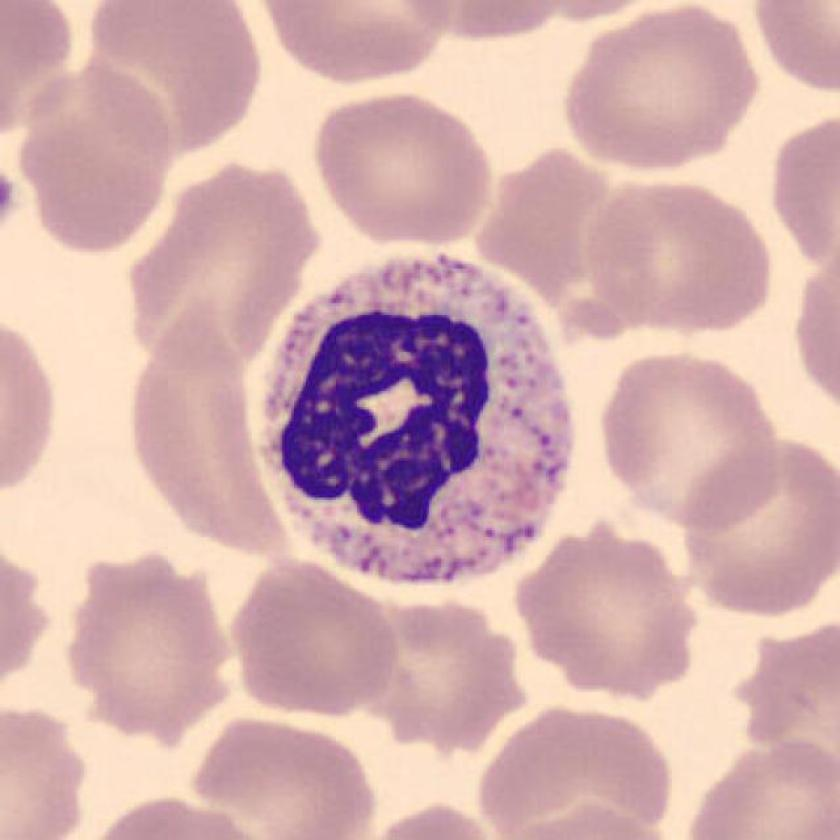neutrophil: (261, 260, 573, 587)
